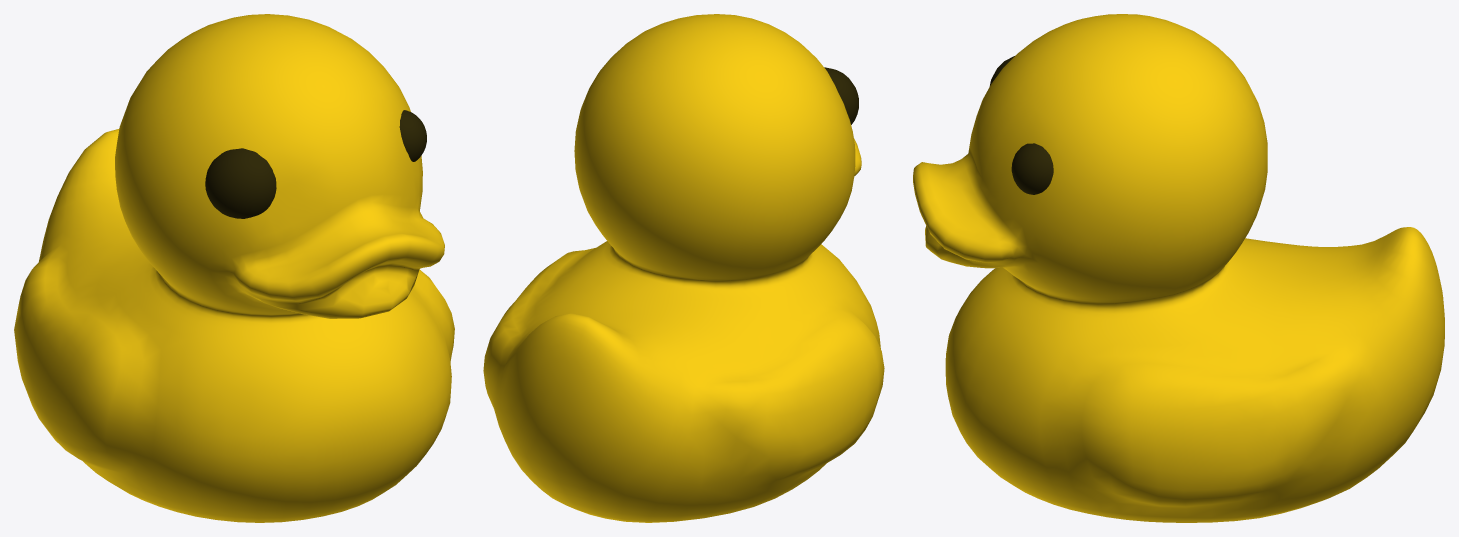
File: bird.glb
3 renders of one model, left to right at view 1: azimuth 30°, elevation 25°; view 2: azimuth 150°, elevation 25°; view 3: azimuth 270°, elevation 25°, orthographic. The views are drawn at different scales.
Size of the model in its own units: 1.55 by 1.8 by 1.99.
